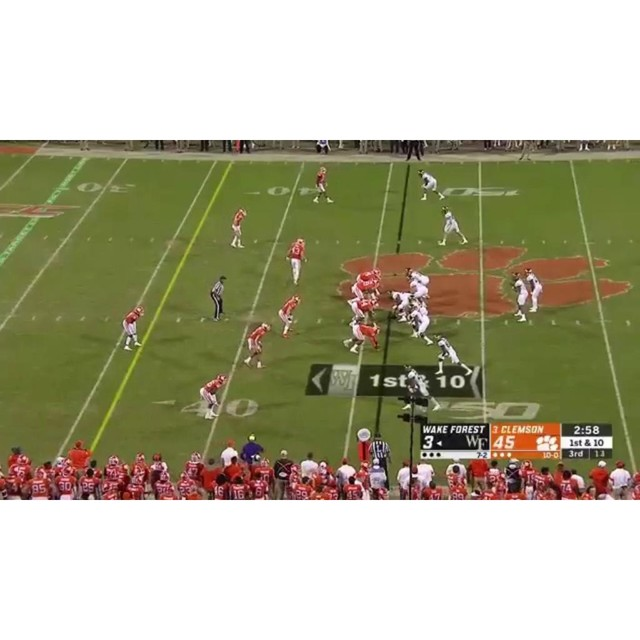american-football-player: (401, 364, 443, 413), (434, 334, 470, 376), (200, 373, 228, 420), (343, 322, 382, 354), (244, 322, 270, 369), (439, 205, 468, 246), (408, 303, 434, 347), (286, 236, 307, 285), (122, 305, 144, 350), (511, 272, 530, 324), (279, 294, 301, 338), (524, 268, 544, 313), (348, 299, 379, 327), (388, 290, 415, 322), (418, 169, 445, 201), (349, 278, 381, 304), (230, 207, 248, 248), (314, 166, 332, 203), (405, 267, 431, 287)
referee: (209, 274, 227, 322)
